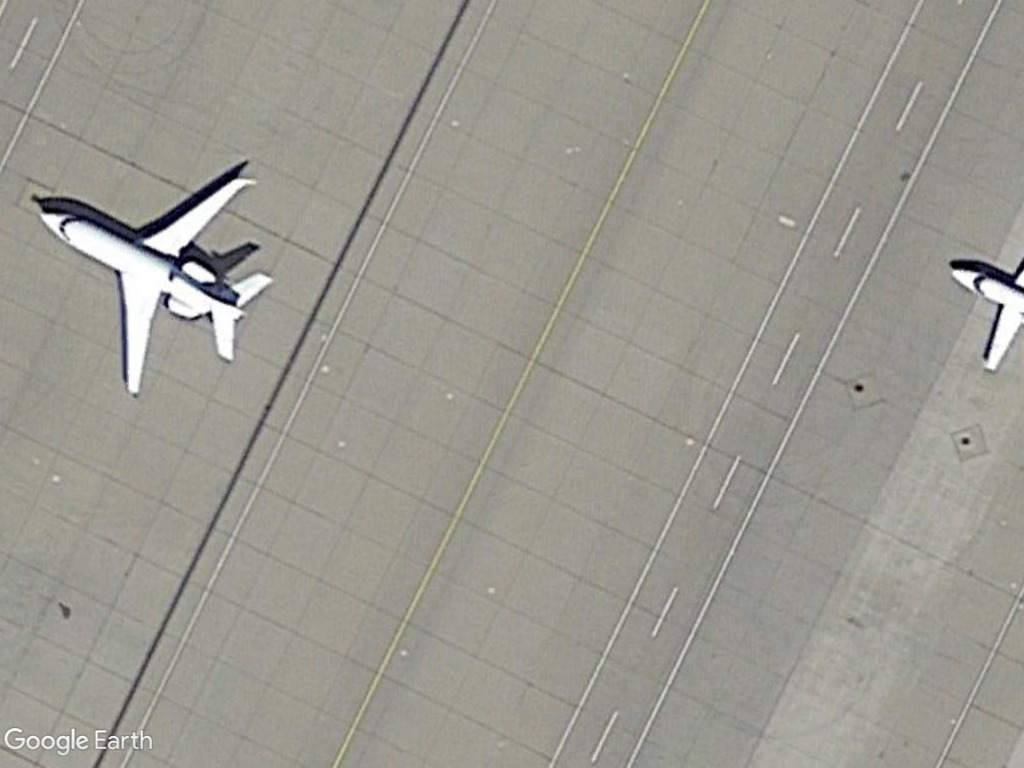chartered: (35, 174, 278, 401)
